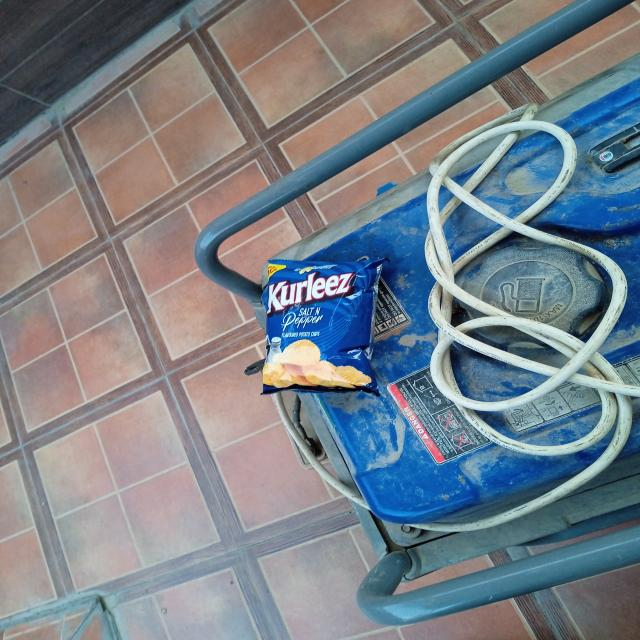Plastic: (262, 260, 378, 391)
